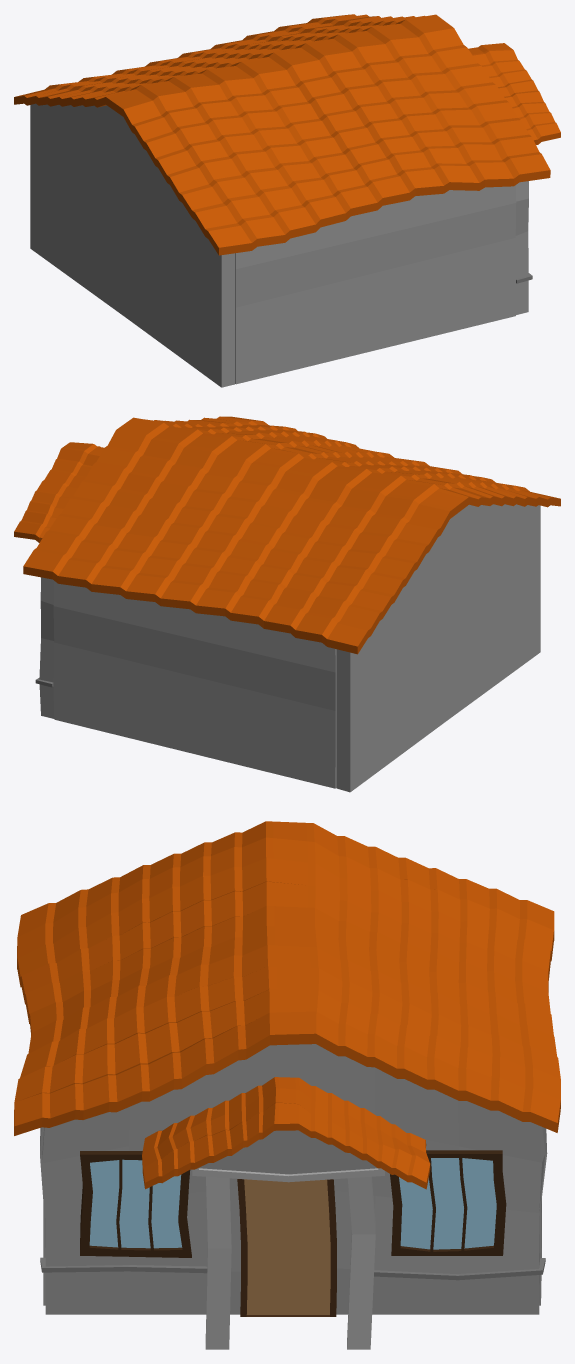
The model's file is rumah 1.fbx.
The picture shows the model from 3 angles, top to bottom: view 1: azimuth 30°, elevation 25°; view 2: azimuth 150°, elevation 25°; view 3: azimuth 270°, elevation 25°; orthographic projection. The views are drawn at different scales.
Parts seen in each view (by area): view 1: atp2_bsr2 2.001; view 2: atp2_bsr2 2.001; view 3: atp2_bsr2 2.001.
Boxes of the visible parts, x1,y1,x2,y2 form: atp2_bsr2 2.001: (14, 14, 560, 387); atp2_bsr2 2.001: (14, 416, 560, 792); atp2_bsr2 2.001: (14, 821, 560, 1349).
Size of the model in its own units: 536 by 293 by 490.
